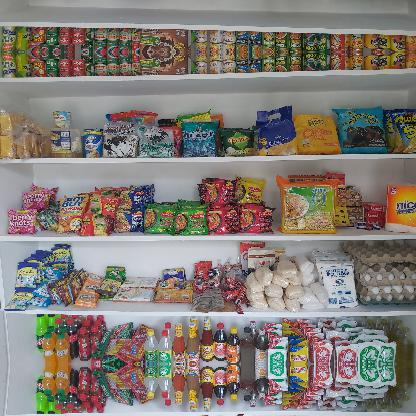Lady-s-Choice: (51, 128, 84, 158)
